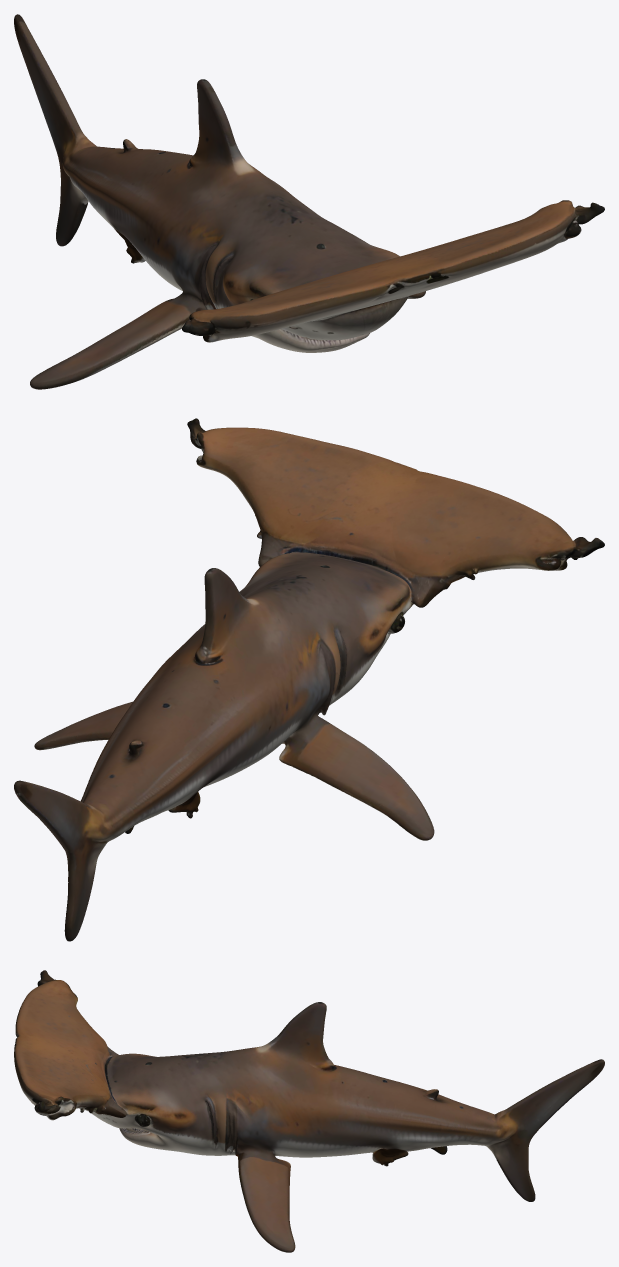
The picture shows the model from 3 angles, top to bottom: view 1: azimuth 30°, elevation 25°; view 2: azimuth 150°, elevation 25°; view 3: azimuth 270°, elevation 25°; orthographic projection. The views are drawn at different scales.
Parts seen in each view (by area): view 1: tripo_node_73eca5c7-d061-40e4-a554-963acd4b905a; view 2: tripo_node_73eca5c7-d061-40e4-a554-963acd4b905a; view 3: tripo_node_73eca5c7-d061-40e4-a554-963acd4b905a.
Boxes of the visible parts, x1,y1,x2,y2 form: tripo_node_73eca5c7-d061-40e4-a554-963acd4b905a: (14, 14, 604, 389); tripo_node_73eca5c7-d061-40e4-a554-963acd4b905a: (14, 418, 604, 941); tripo_node_73eca5c7-d061-40e4-a554-963acd4b905a: (14, 970, 604, 1252).
Bounding box in the file's own units: 0.6087 × 0.3728 × 1.
1 material, 1 textured.
